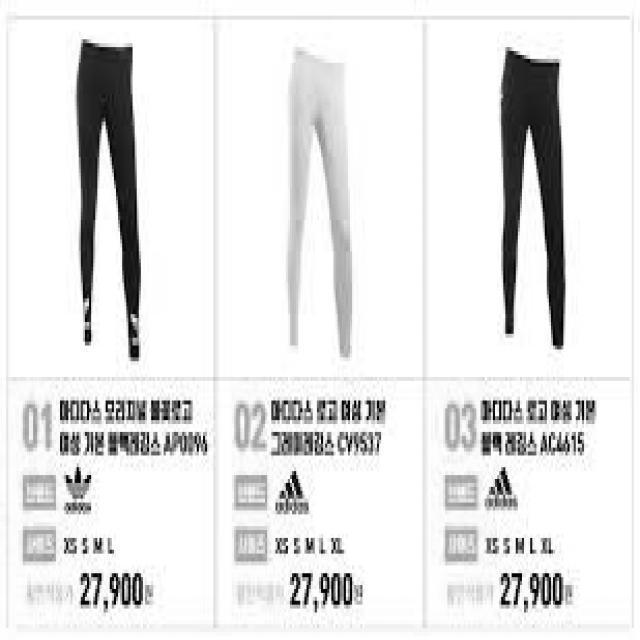Adidas: (272, 466, 312, 516), (485, 460, 522, 513), (59, 463, 94, 516)
